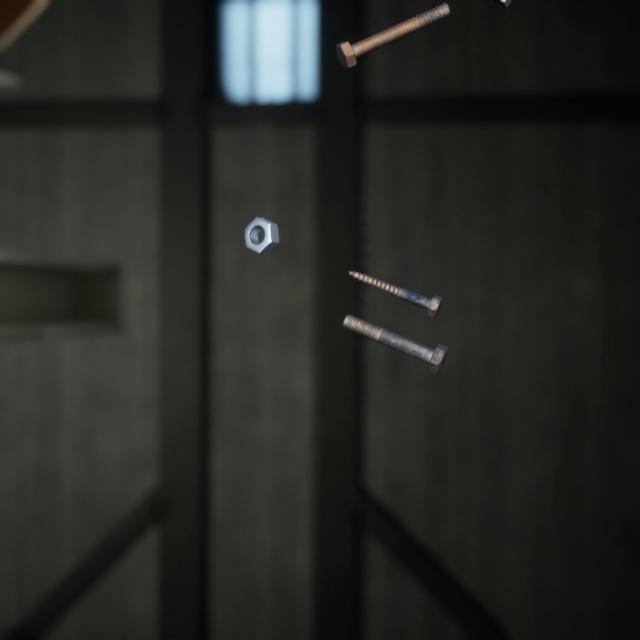bolt: (331, 0, 455, 64), (338, 292, 452, 361), (344, 250, 447, 306)
nut: (239, 196, 283, 242)
